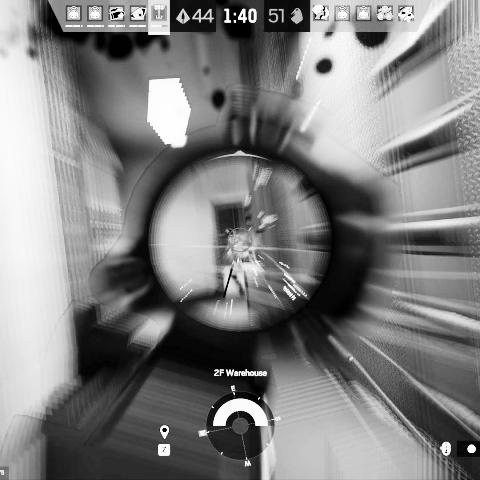Character: (225, 228, 259, 300)
Head: (225, 228, 235, 241)
